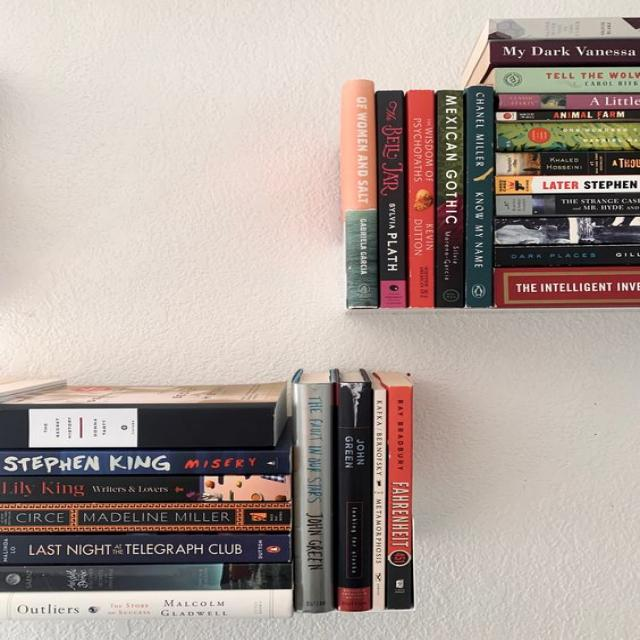book: (0, 403, 275, 448), (339, 79, 378, 308), (2, 534, 288, 565), (334, 382, 371, 610), (296, 382, 332, 612), (1, 590, 294, 617), (0, 504, 290, 530), (2, 475, 291, 501), (0, 564, 291, 589), (376, 90, 406, 308), (386, 384, 414, 612), (1, 451, 291, 473), (435, 90, 464, 307), (464, 86, 492, 307), (407, 91, 435, 308), (495, 267, 640, 308), (491, 40, 640, 67), (497, 122, 640, 149), (494, 217, 640, 243), (494, 67, 640, 92), (490, 19, 640, 40), (496, 153, 640, 174), (497, 194, 640, 215), (494, 245, 640, 265), (495, 175, 640, 192), (372, 389, 382, 612), (498, 94, 640, 108), (496, 109, 640, 121)
